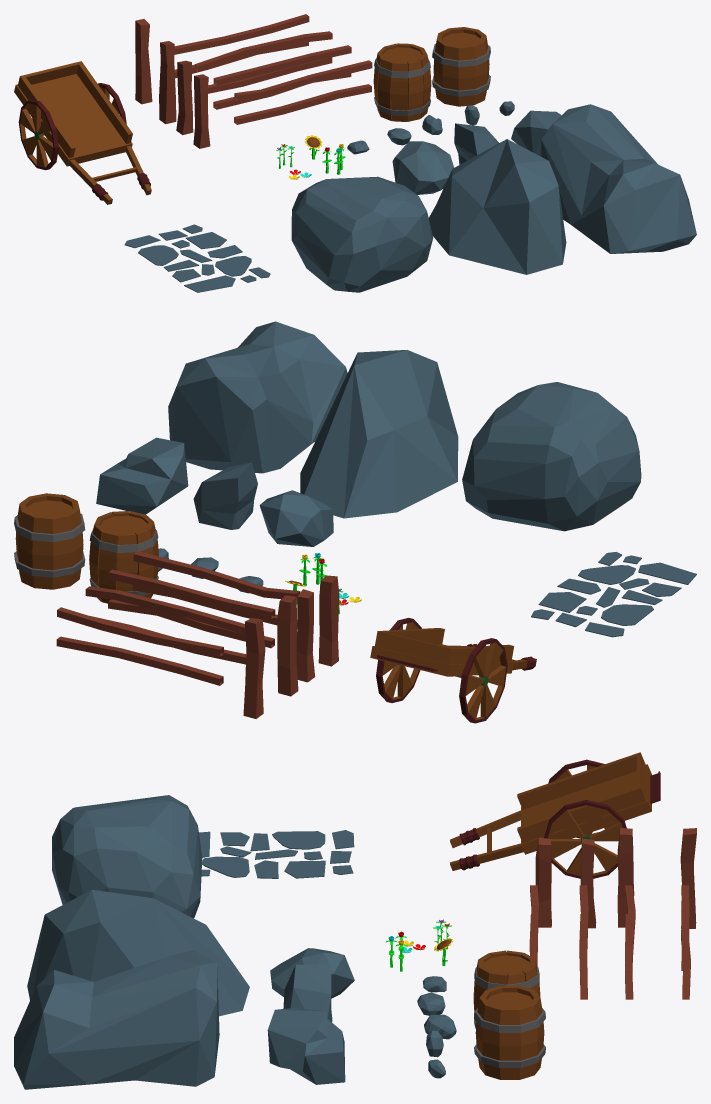
Rendered from assets presentatie (1).fbx.
The picture shows the model from 3 angles, top to bottom: view 1: azimuth 30°, elevation 25°; view 2: azimuth 150°, elevation 25°; view 3: azimuth 270°, elevation 25°; orthographic projection. The views are drawn at different scales.
Parts seen in each view (by area): view 1: rock big 1, rock big 2, rock big 3, wagon, tile, barrel, barrel higer poly, fence_length_3, rock medium 3, fence_length_2, fence_length_4, fence_length_1 (+6 smaller); view 2: rock big 3, rock big 2, rock big 1, wagon, tile, barrel, rock medium 1, barrel higer poly, fence_length_1, rock medium 2, rock medium 3, fence_length_4 (+6 smaller); view 3: rock big 1, rock big 3, rock big 2, wagon, barrel, tile, rock medium 1, barrel higer poly, rock medium 2, rock medium 3, fence_pole_3, fence_pole_2 (+8 smaller).
Part boxes in pixels (x1,y1,x2,y2): rock big 1: (540, 104, 696, 253); rock big 2: (428, 139, 566, 274); rock big 3: (291, 176, 433, 292); wagon: (14, 61, 151, 204); tile: (124, 224, 270, 292); barrel: (432, 27, 490, 106); barrel higer poly: (373, 43, 431, 121); fence_length_3: (234, 60, 372, 124); rock medium 3: (392, 141, 454, 194); fence_length_2: (194, 31, 332, 93); fence_length_4: (213, 45, 351, 109); fence_length_1: (174, 14, 309, 78); rock big 3: (462, 382, 641, 531); rock big 2: (300, 350, 458, 518); rock big 1: (168, 321, 347, 473); wagon: (370, 618, 536, 723); tile: (531, 552, 696, 637); barrel: (14, 493, 85, 589); rock medium 1: (96, 437, 188, 514); barrel higer poly: (89, 511, 158, 603); fence_length_1: (56, 607, 223, 685); rock medium 2: (193, 462, 257, 529); rock medium 3: (259, 490, 333, 546); fence_length_4: (108, 569, 275, 648); rock big 1: (14, 950, 219, 1089); rock big 3: (52, 795, 202, 918); rock big 2: (27, 889, 249, 1016); wagon: (450, 752, 660, 878); barrel: (474, 985, 545, 1079); tile: (199, 830, 354, 878); rock medium 1: (267, 1008, 345, 1084); barrel higer poly: (473, 950, 540, 1028); rock medium 2: (283, 964, 332, 1021); rock medium 3: (270, 948, 354, 998); fence_pole_3: (535, 837, 551, 927); fence_pole_2: (617, 828, 634, 927).
Bounding box in the file's own units: 642 × 135 × 717.
